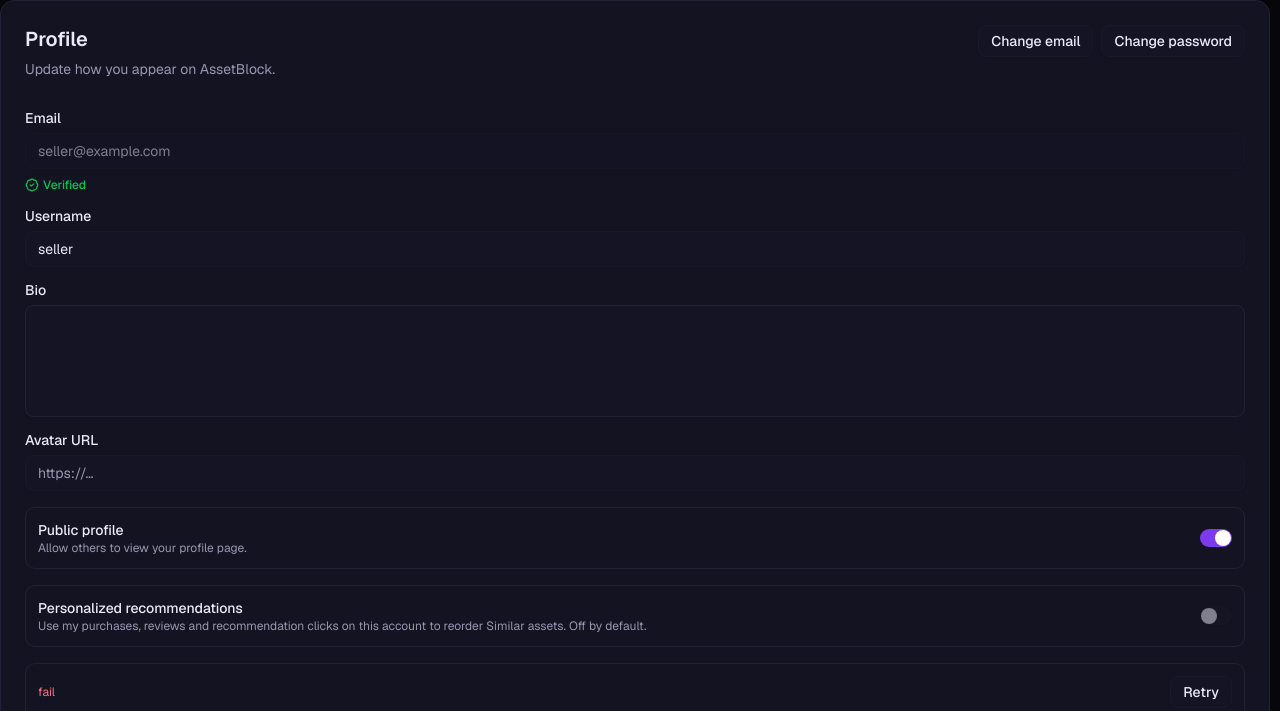
Test: AccountSettingsForm › recovers the switch from a failed load after retry succeeds
Expected: the switch named "Personalized recommendations" is disabled, [1200,607,1232,625]
Click the button "Retry".
click(1201, 692)  # box [1170,676,1232,708]
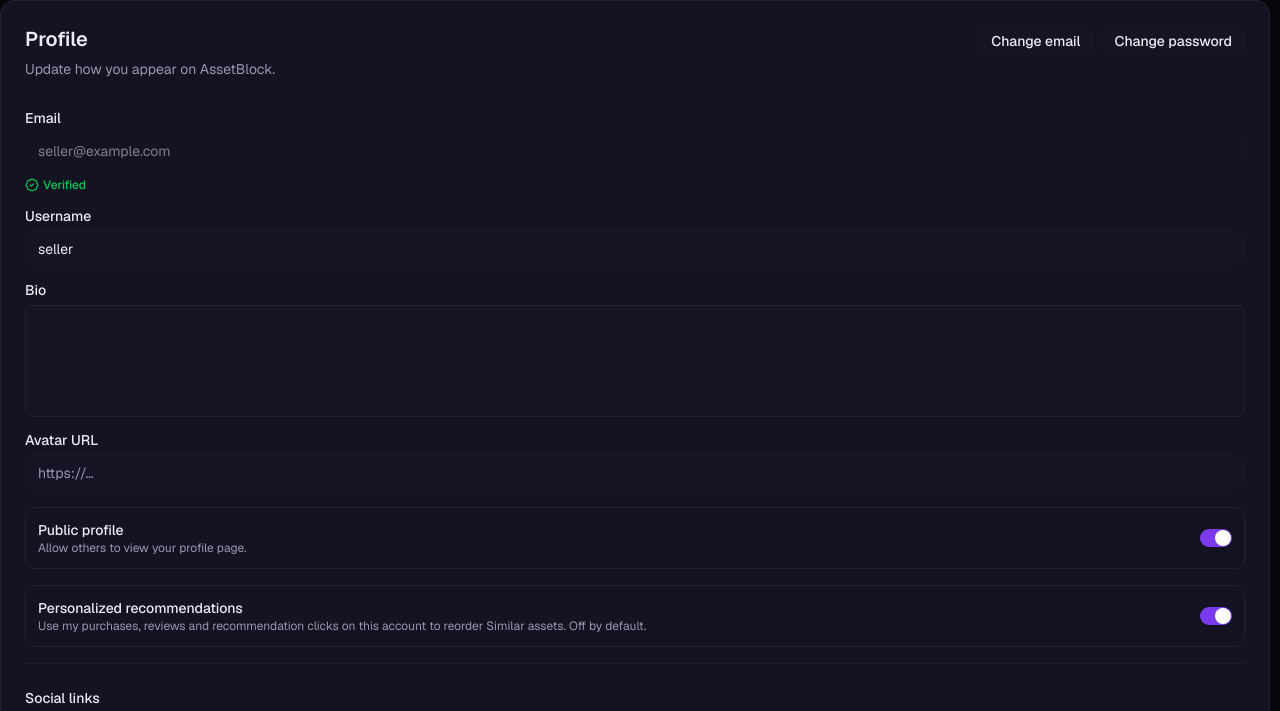
Expected: the switch named "Personalized recommendations" is enabled, [1200,607,1232,625]
